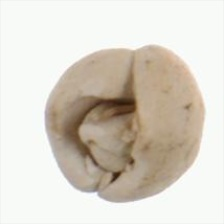L3: (61, 79, 142, 196)
L4: (44, 44, 206, 203)
